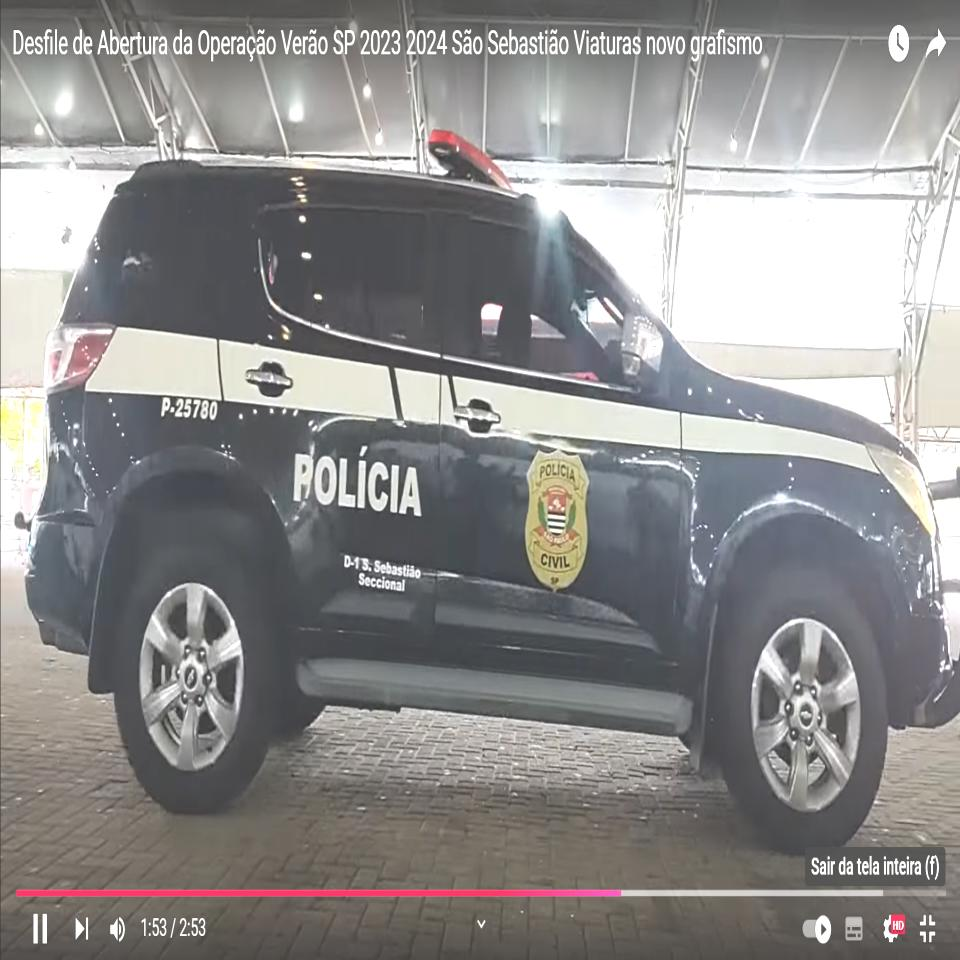viatura: (17, 127, 960, 842)
